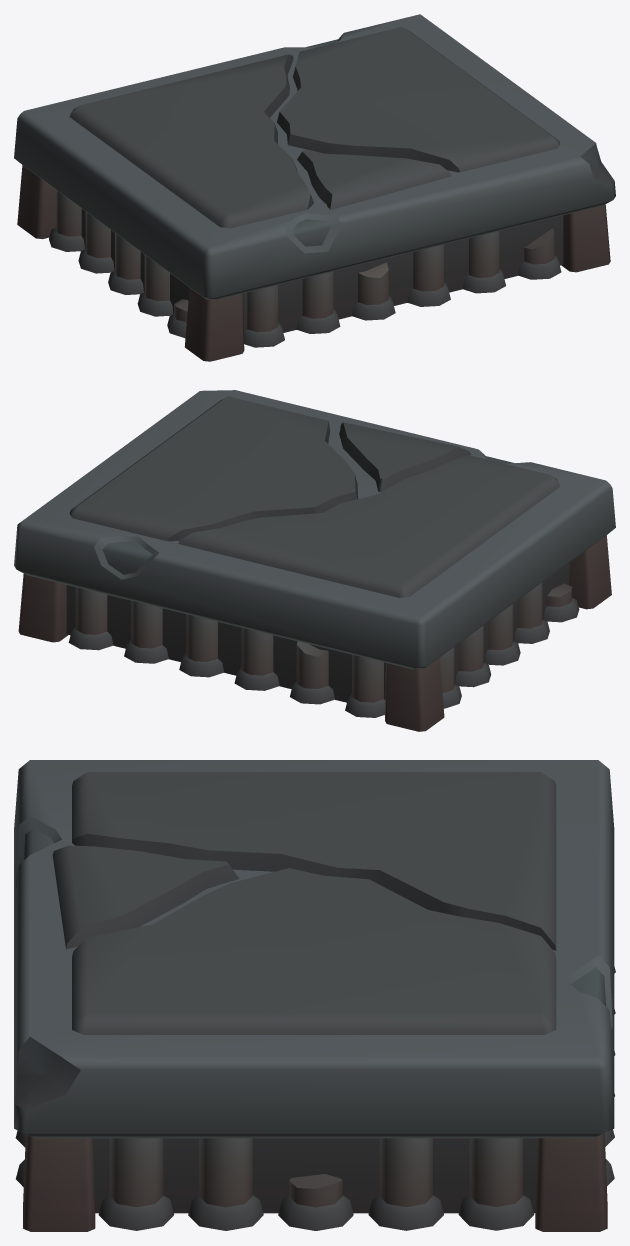
The model's file is inferno-pedestal-big-001.glb.
The picture shows the model from 3 angles, top to bottom: view 1: azimuth 30°, elevation 25°; view 2: azimuth 150°, elevation 25°; view 3: azimuth 270°, elevation 25°; orthographic projection. The views are drawn at different scales.
Visible parts, largest first — view 1: PedestalBig_001; view 2: PedestalBig_001; view 3: PedestalBig_001.
Boxes of the visible parts, box(x1,y1,x2,y2) form: PedestalBig_001: box(14, 14, 615, 361); PedestalBig_001: box(14, 390, 615, 731); PedestalBig_001: box(14, 760, 615, 1231).
Size of the model in its own units: 21.44 by 6.1 by 17.68.
1 material, 1 textured.
